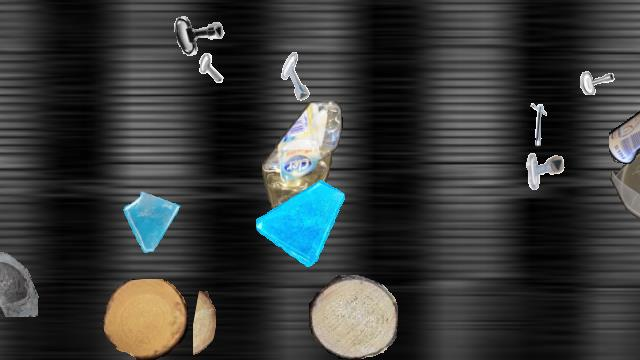glass: (256, 177, 346, 267), (120, 190, 184, 254), (0, 240, 41, 316)
metal: (167, 1, 229, 63), (517, 101, 571, 155), (568, 43, 620, 95), (273, 51, 323, 101), (175, 51, 223, 99), (524, 148, 566, 190)
plastic: (262, 101, 344, 247), (609, 81, 640, 167), (610, 135, 640, 223)
wood: (309, 275, 397, 359), (103, 279, 187, 359), (193, 291, 215, 359)
